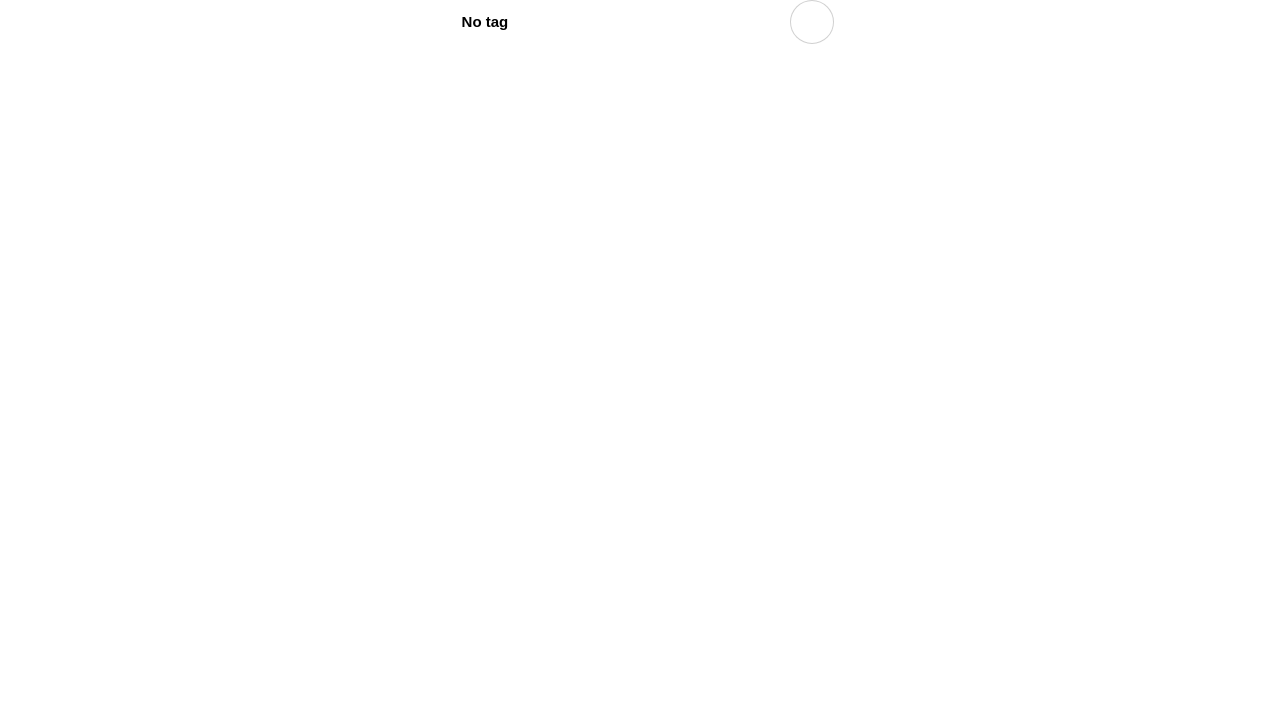
Test: TagPicker: the All tags list › opens on a tap of the three dots, asks the hook to read the list once, and is a modal dialog with the name All tags
Click the button with class "ab-tag-dots" at (812, 22), box [790,0,834,44]
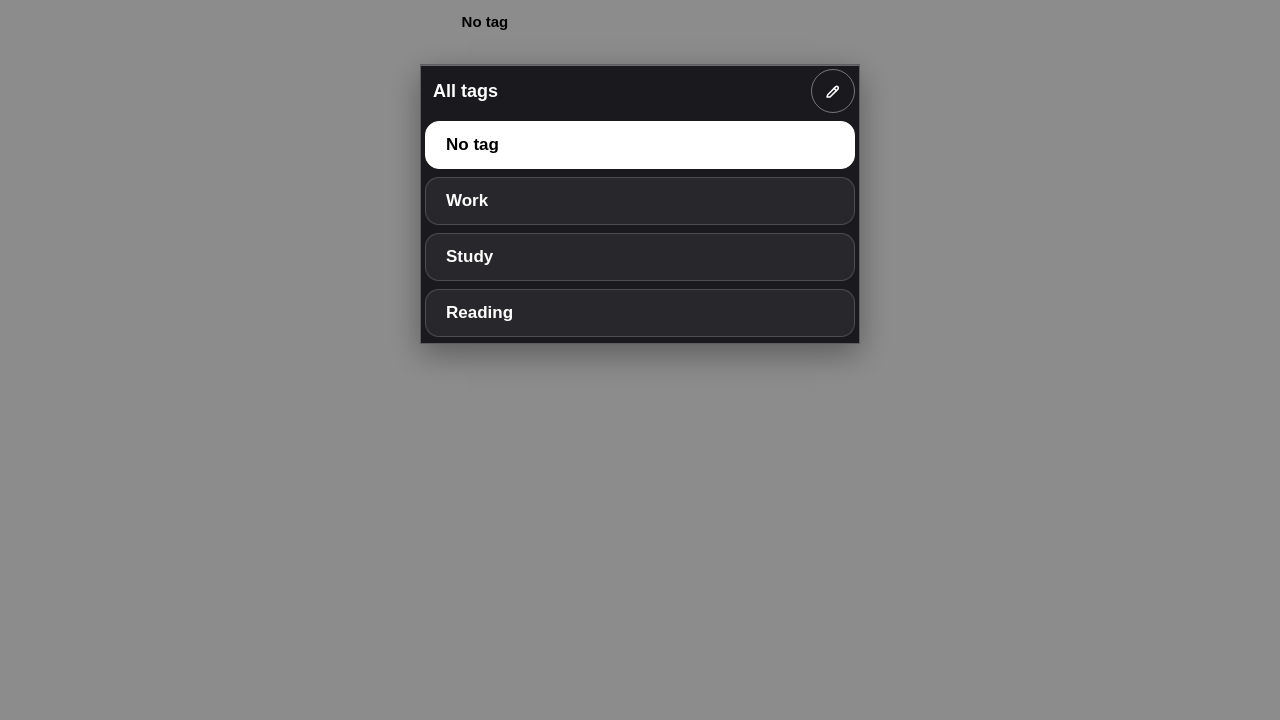
Result: the text with class "ab-tag-title" reads "All tags" at [433,80,498,100]
